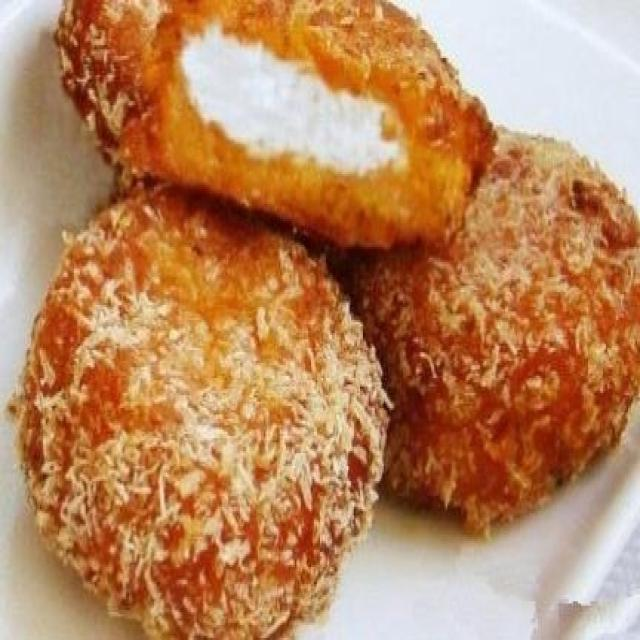炸货点心: (6, 2, 635, 632)
蛋糕甜品: (6, 2, 635, 632)
